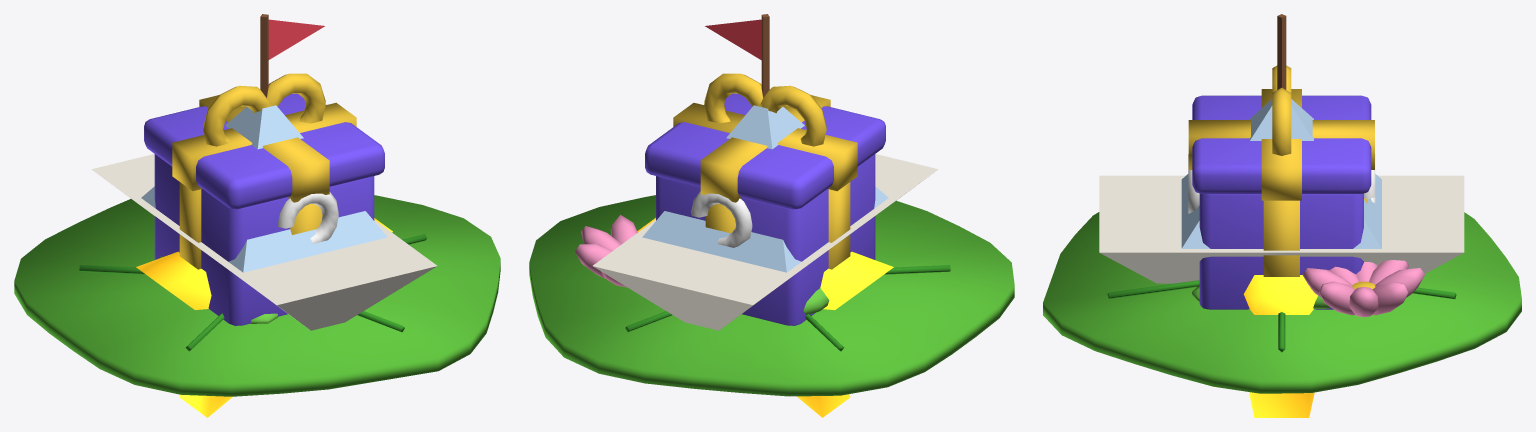
File: items.glb
3 views of the same model, side by side, from view 1: azimuth 30°, elevation 25°; view 2: azimuth 150°, elevation 25°; view 3: azimuth 270°, elevation 25° (orthographic).
Parts seen in each view (by area): view 1: lily_pad_mesh, gift_mesh, paper_boat_mesh, star_mesh; view 2: lily_pad_mesh, gift_mesh, paper_boat_mesh, star_mesh; view 3: lily_pad_mesh, gift_mesh, paper_boat_mesh, star_mesh.
Part boxes in pixels (box(x1,y1,x2,y2)): lily_pad_mesh: box(14, 195, 500, 396); gift_mesh: box(144, 73, 384, 325); paper_boat_mesh: box(91, 14, 437, 330); star_mesh: box(136, 218, 392, 417); lily_pad_mesh: box(529, 195, 1014, 396); gift_mesh: box(645, 73, 885, 325); paper_boat_mesh: box(593, 14, 938, 330); star_mesh: box(637, 218, 893, 417); lily_pad_mesh: box(1043, 212, 1521, 393); gift_mesh: box(1188, 65, 1375, 309); paper_boat_mesh: box(1099, 14, 1464, 283); star_mesh: box(1243, 275, 1317, 417).
Size of the model in its own units: 2.59 by 2.23 by 2.62.
